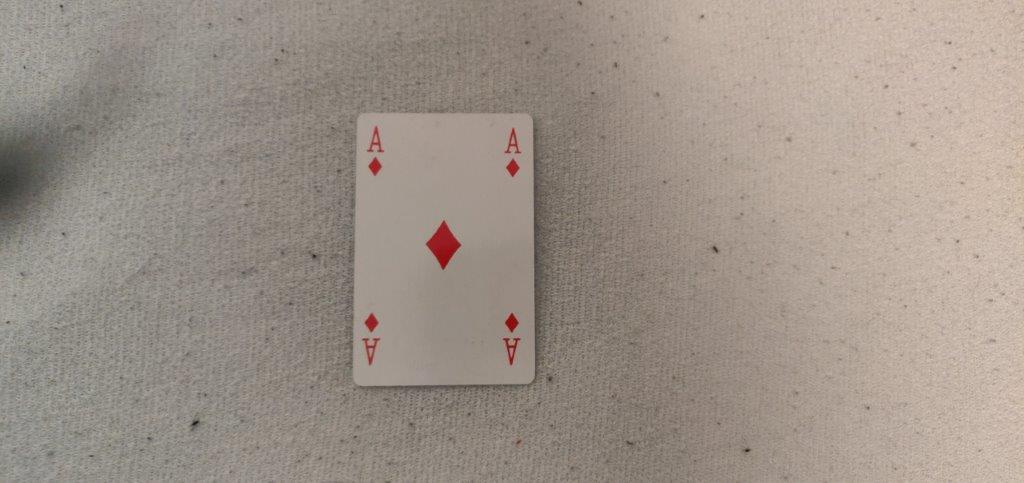AD: (500, 121, 526, 183), (363, 120, 385, 181)
